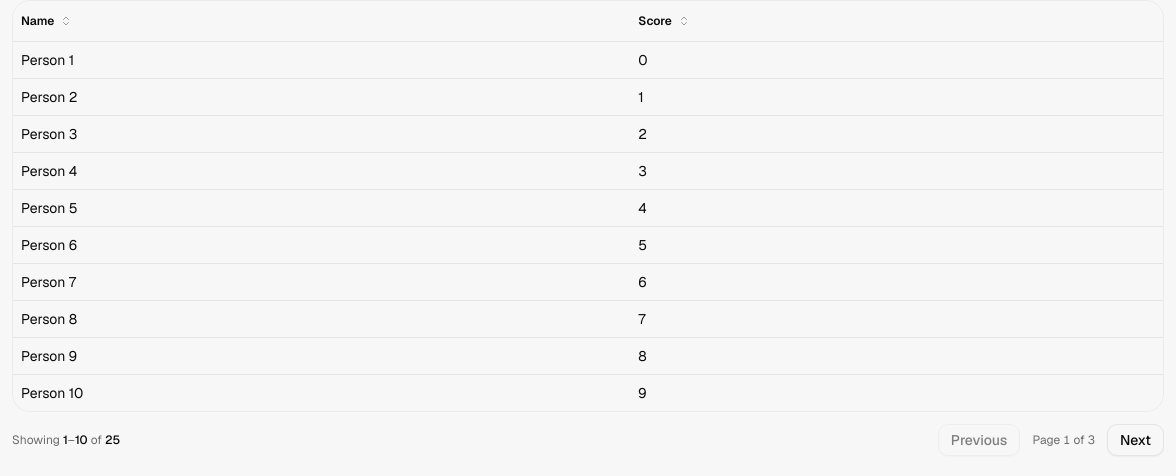
DataTable — pagination › disables Next on the final page
Click the button "Next".
click(1135, 440)  # box [1107,424,1164,456]
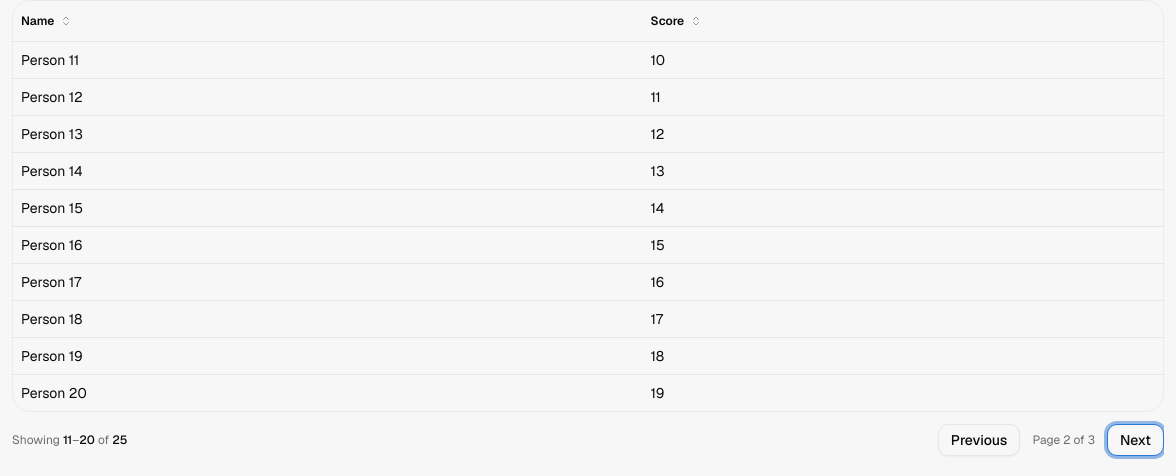
Click the button "Next".
click(1135, 440)  # box [1107,424,1164,456]
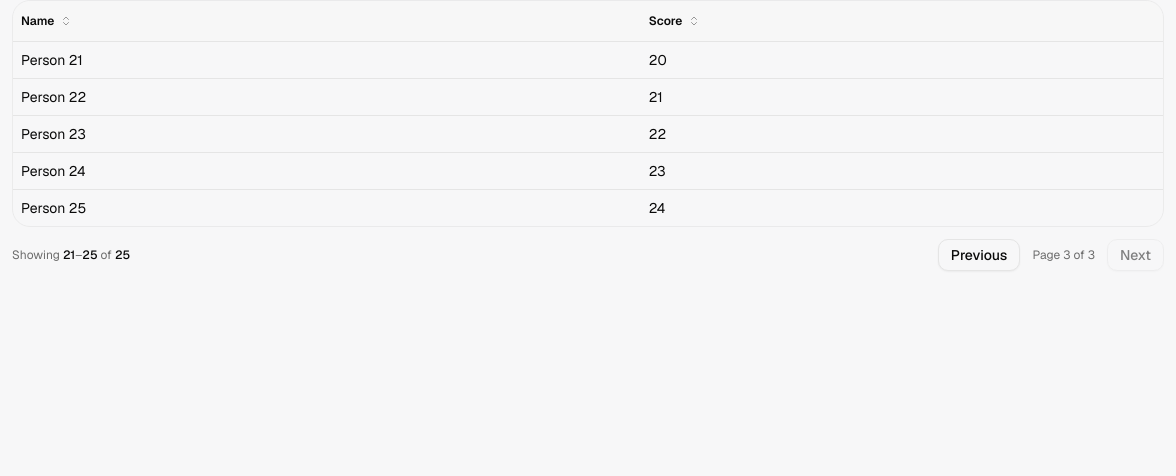
expect the button "Next" is disabled: met, box [1107,238,1164,270]
expect the text "Showing 21–25 of 25" is shown: met, box [12,246,130,262]
